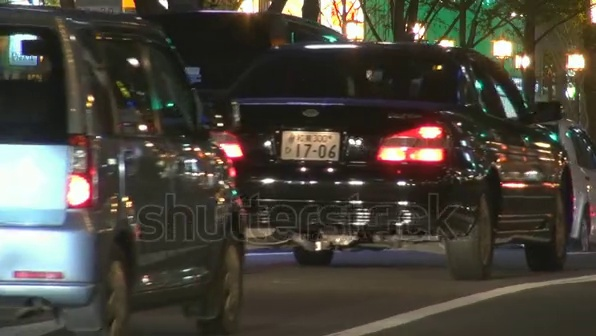licenseplate: (285, 127, 345, 166)
